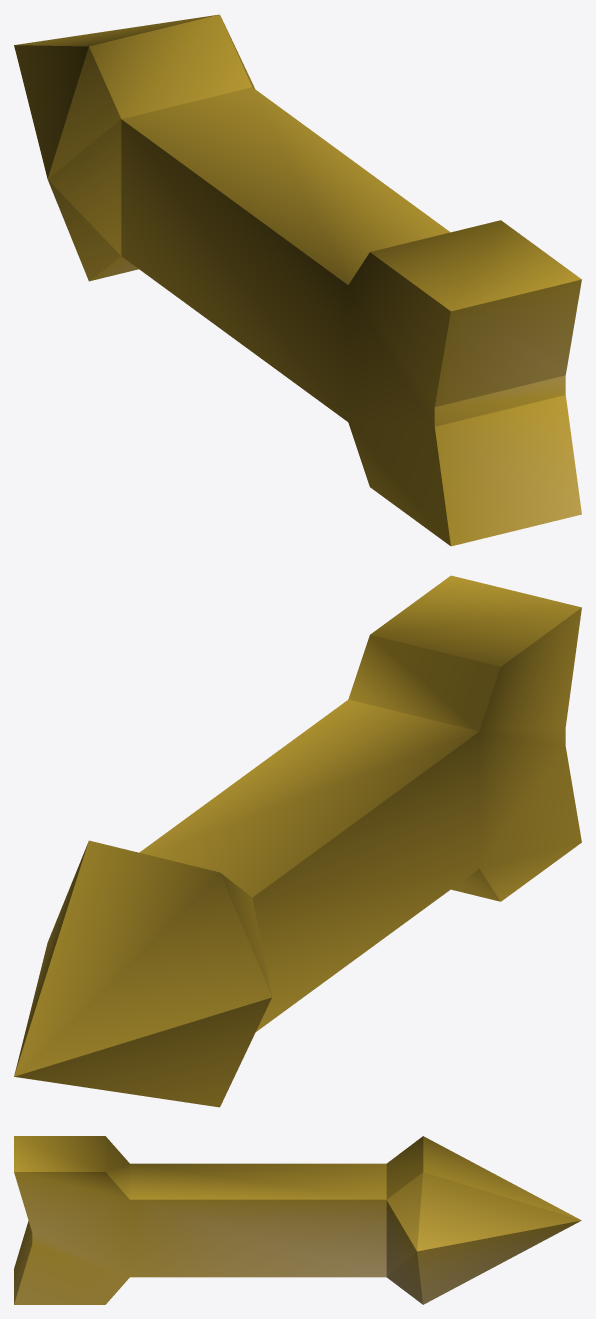
The model's file is webweaver_arrow.glb.
The picture shows the model from 3 angles, top to bottom: view 1: azimuth 30°, elevation 25°; view 2: azimuth 150°, elevation 25°; view 3: azimuth 270°, elevation 25°; orthographic projection. The views are drawn at different scales.
Parts seen in each view (by area): view 1: Webweaver bow arrow; view 2: Webweaver bow arrow; view 3: Webweaver bow arrow.
Boxes of the visible parts, x1,y1,x2,y2 form: Webweaver bow arrow: [14, 14, 581, 546]; Webweaver bow arrow: [14, 575, 581, 1107]; Webweaver bow arrow: [14, 1136, 581, 1304].
Size of the model in its own units: 24 by 24 by 93.
